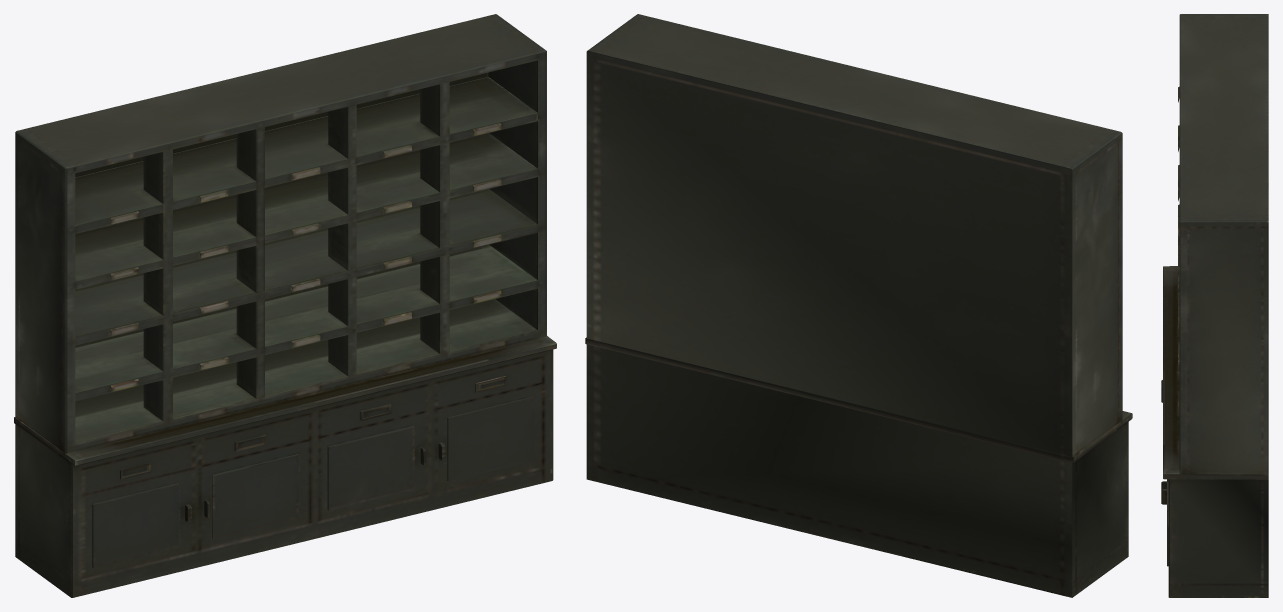
File: P_Letter_Box.fbx
3 views of the same model, side by side, from view 1: azimuth 30°, elevation 25°; view 2: azimuth 150°, elevation 25°; view 3: azimuth 270°, elevation 25° (orthographic). The views are drawn at different scales.
Parts seen in each view (by area): view 1: P_Letter_Box; view 2: P_Letter_Box; view 3: P_Letter_Box.
Boxes of the visible parts, box(x1,y1,x2,y2) form: P_Letter_Box: box(14, 14, 556, 597); P_Letter_Box: box(585, 14, 1132, 597); P_Letter_Box: box(1161, 14, 1268, 597).
Size of what is drawn, in the model's own units: 346 by 290 by 75.19.
1 material, 1 textured.
